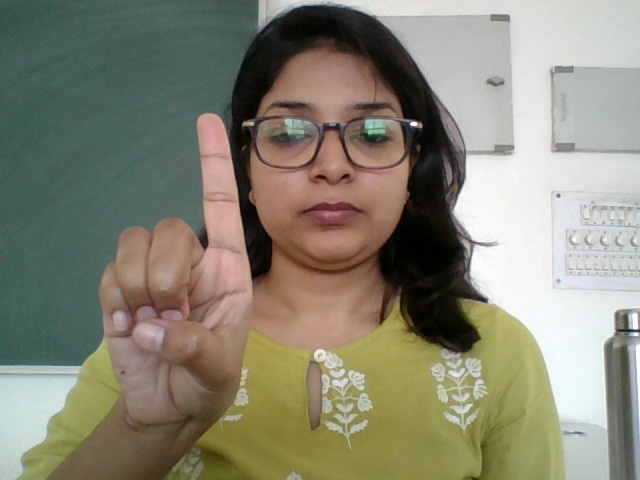D: (94, 113, 260, 429)
